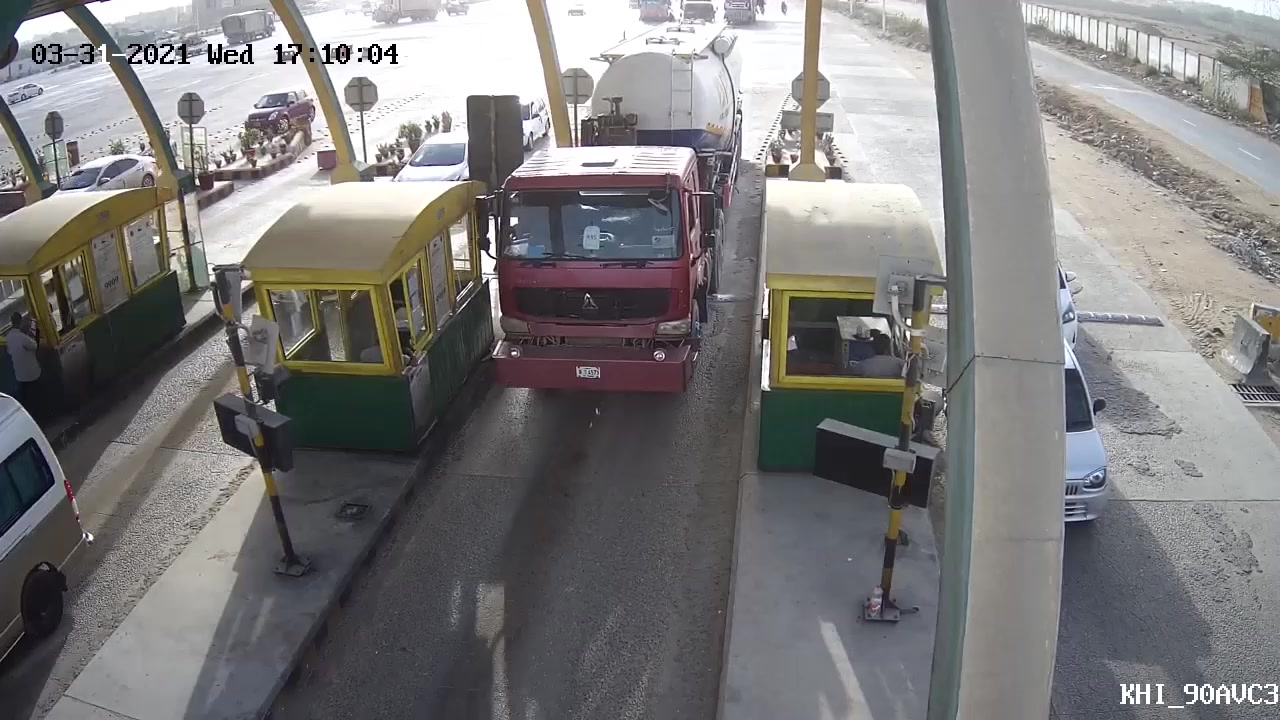F6: (479, 18, 759, 417)
